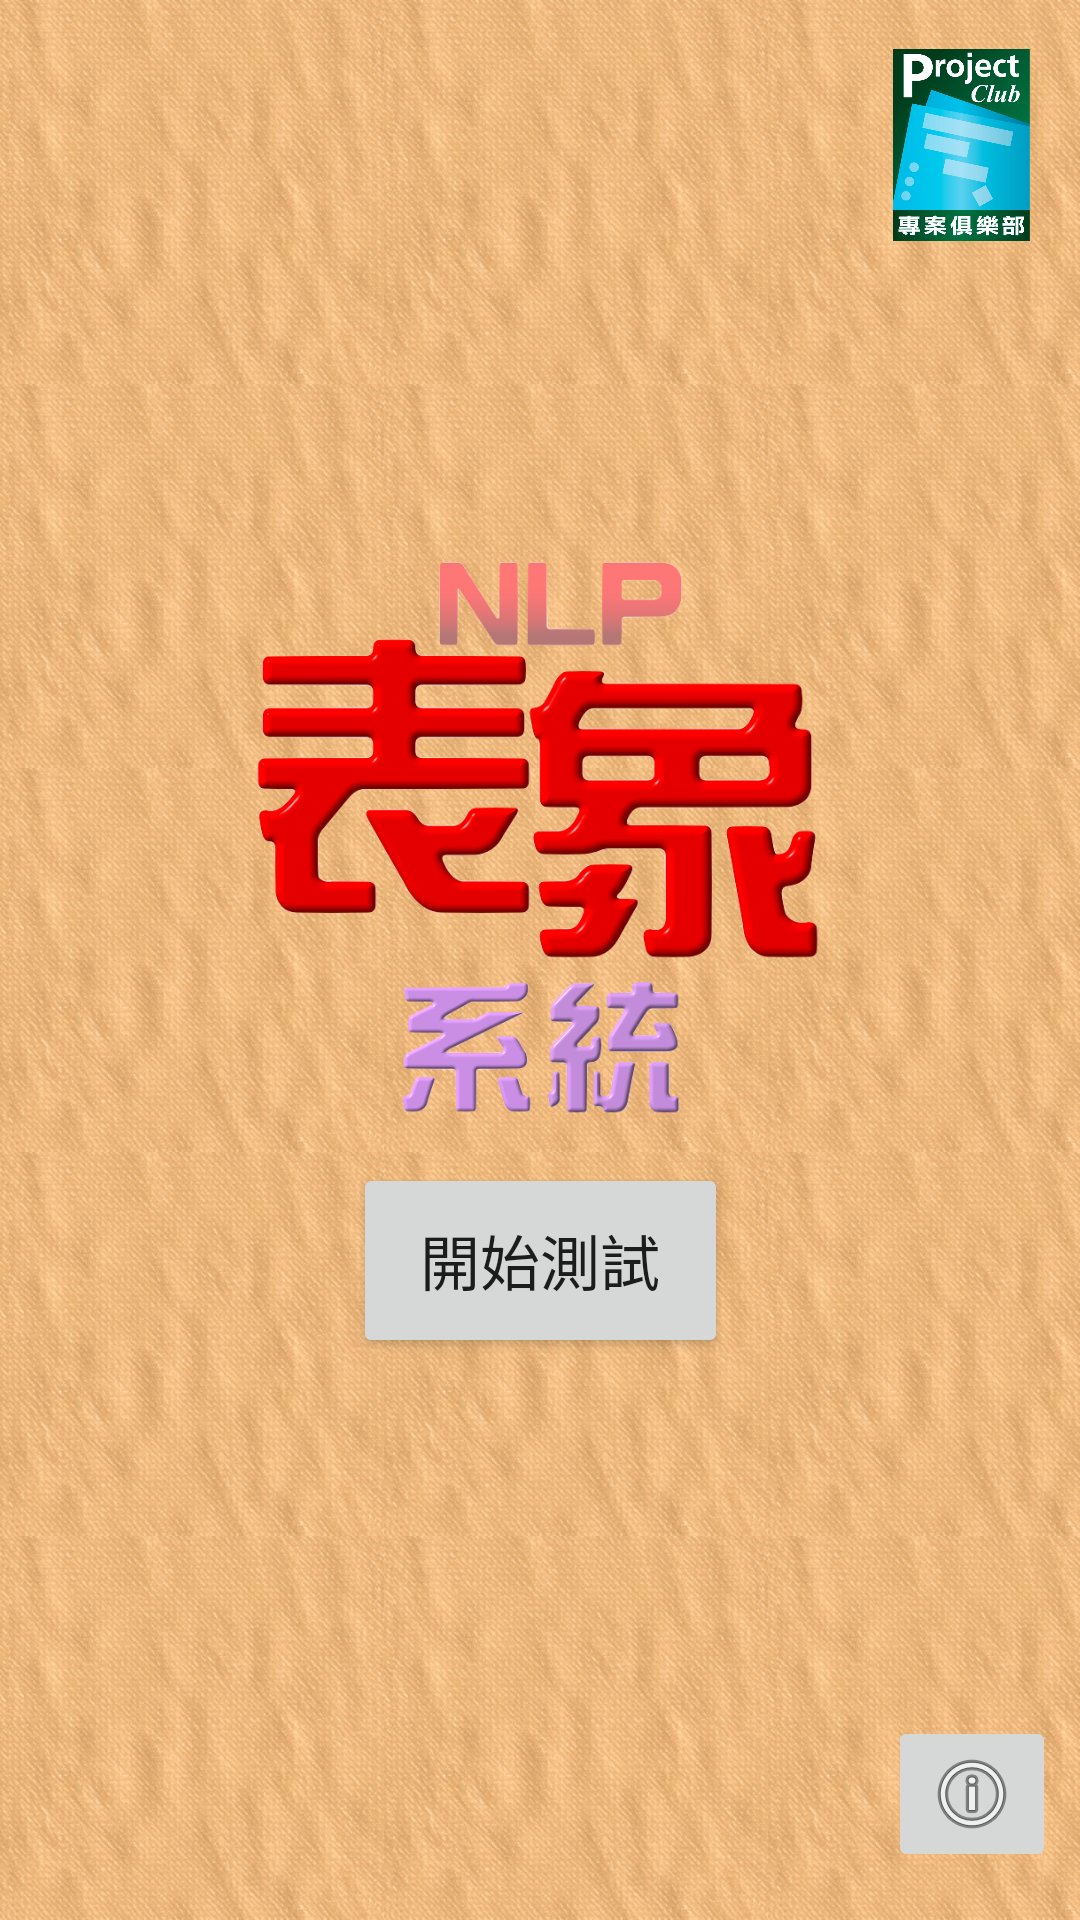

Icon bounding boxes for this 1080 x 1920 phone screenshot, format (x1, y1, x2, y2):
info details: (888, 1717, 1056, 1872)
